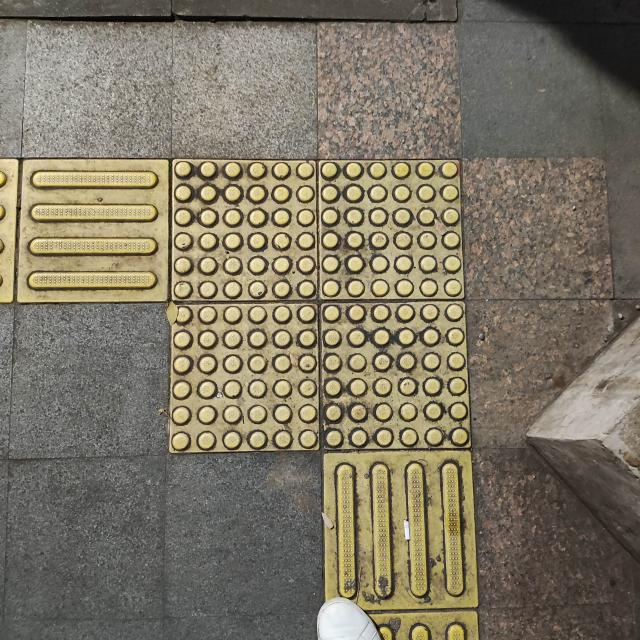kiri: (0, 133, 530, 535)
